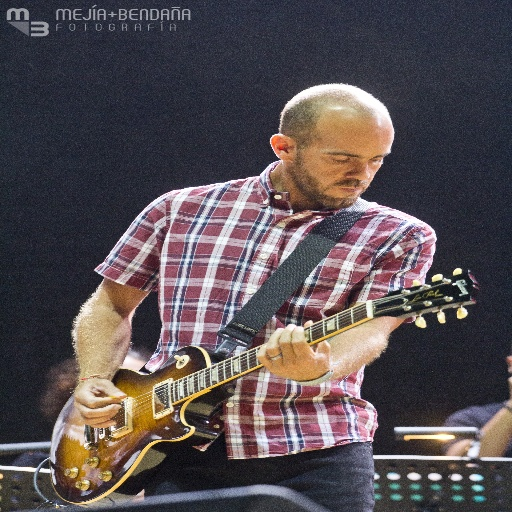hand: (254, 320, 330, 380), (66, 375, 128, 431)
